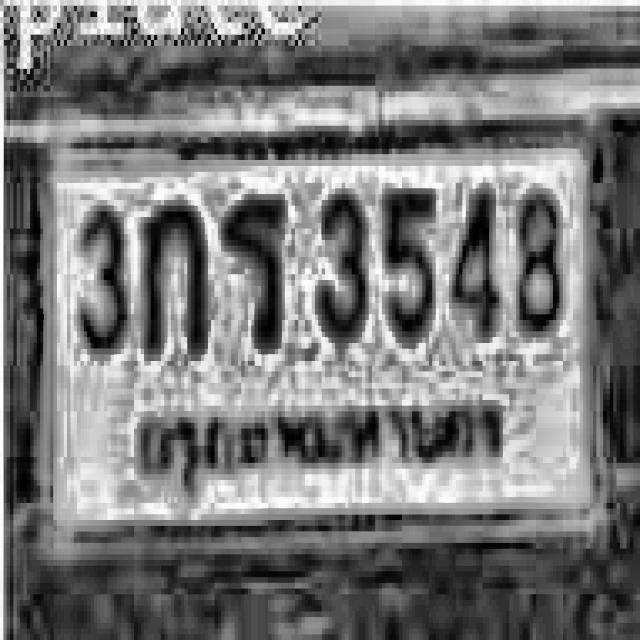license-plate: (39, 104, 608, 555)
